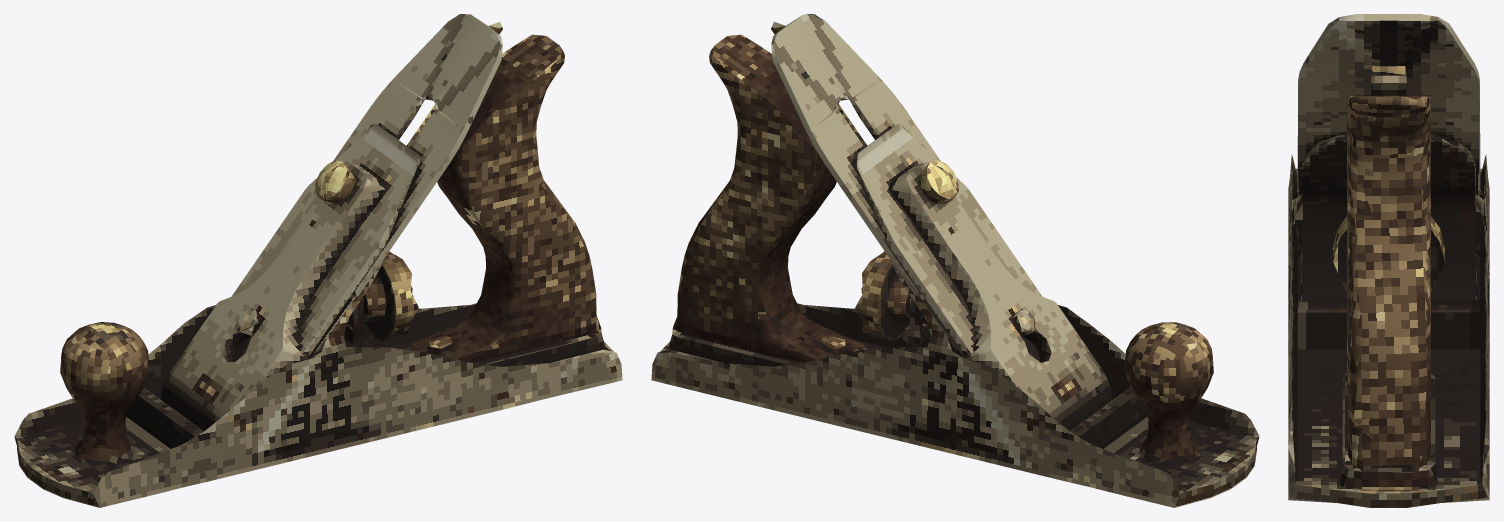
File: hand_plane_no4.glb
The picture shows the model from 3 angles, left to right: view 1: azimuth 30°, elevation 25°; view 2: azimuth 150°, elevation 25°; view 3: azimuth 270°, elevation 25°; orthographic projection. The views are drawn at different scales.
Parts seen in each view (by area): view 1: body; view 2: body; view 3: body.
Boxes of the visible parts, x1,y1,x2,y2 form: body: (14,14,622,507); body: (651,14,1259,507); body: (1288,14,1489,507).
Size of the model in its own units: 0.3309 by 0.1978 by 0.0843.
Materials: 1 (1 with a texture image).
